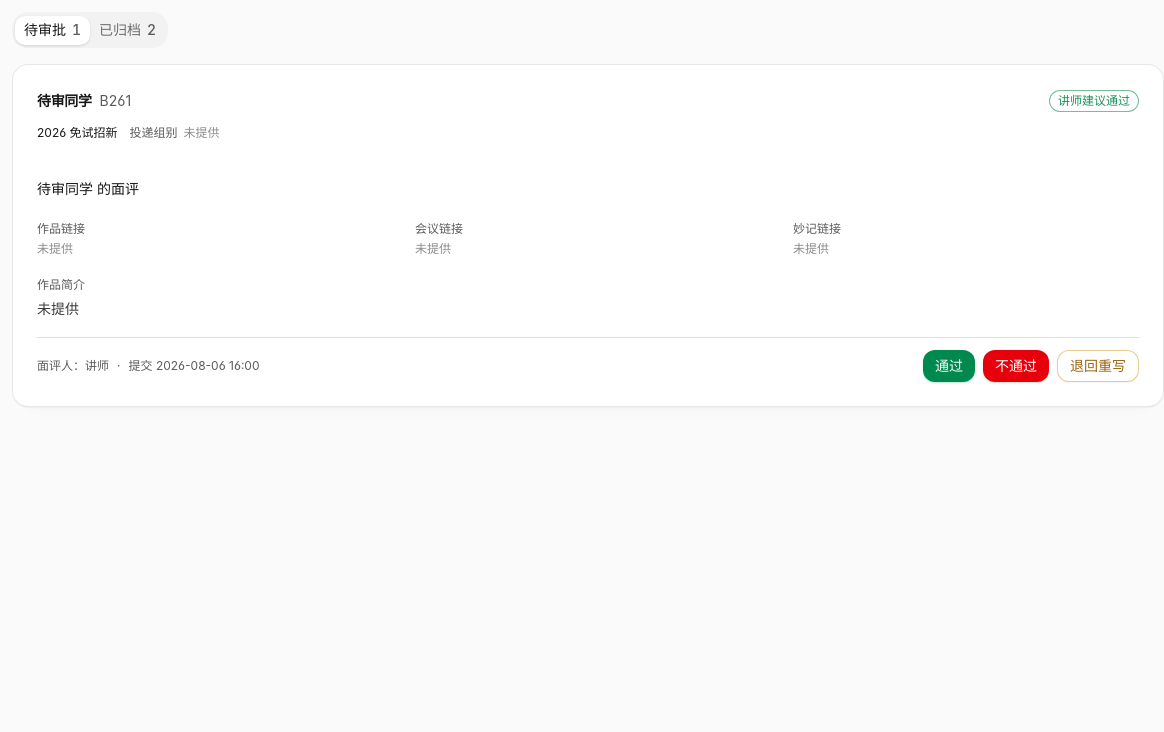
it: ApprovalsContent › searches within every administrator-decided archive record
The width and height of the screenshot is (1164, 732).
Check: the text "讲师建议通过" is shown, box left=1049, top=90, right=1139, bottom=112
Click the tab "已归档 2". click: (128, 30)
box: left=90, top=16, right=165, bottom=44
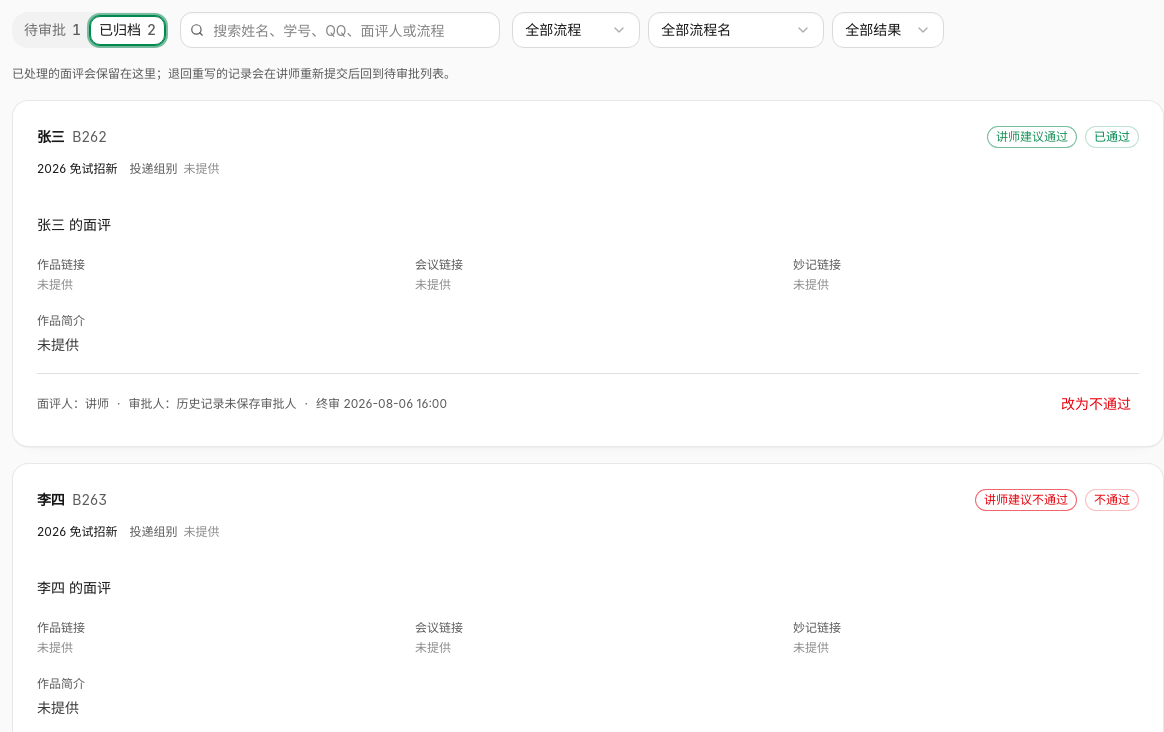
Check: the button "张三" is shown, box left=37, top=125, right=64, bottom=149
Check: the button "李四" is shown, box left=37, top=488, right=64, bottom=512
Check: the text "讲师建议不通过" is shown, box left=975, top=489, right=1077, bottom=511
Type "李四" into the field named "搜索归档面评". click: (340, 30)
box: left=180, top=12, right=500, bottom=48
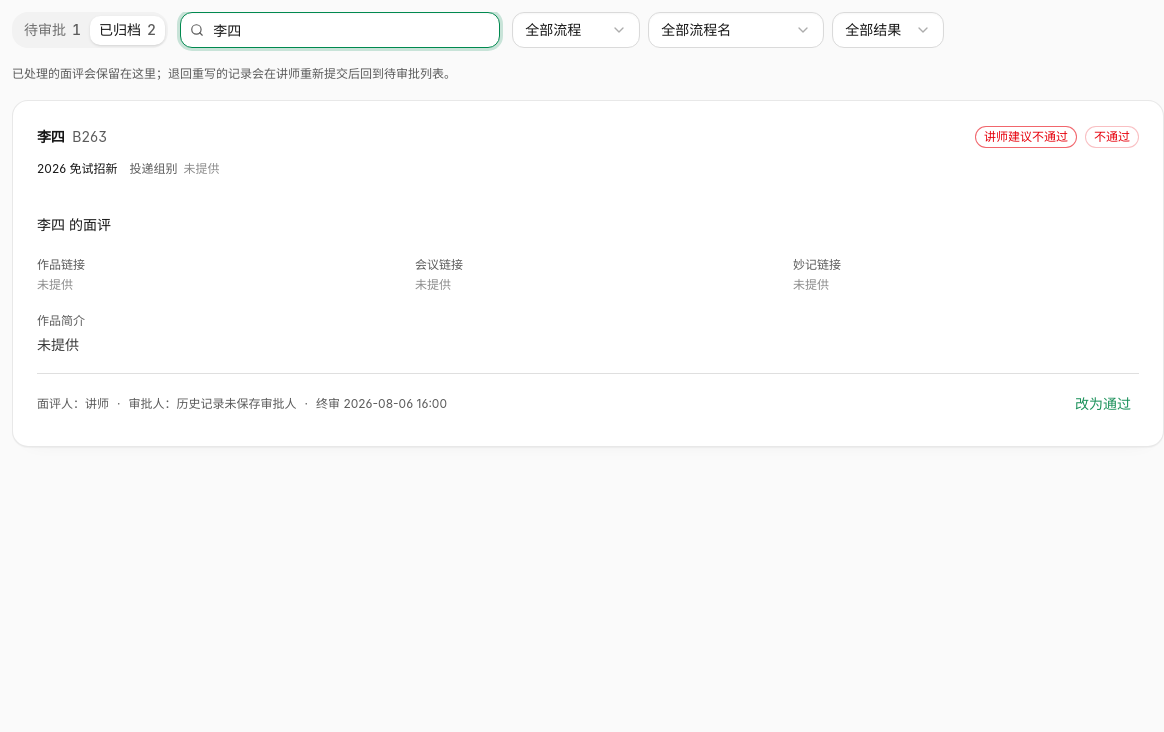
Check: the button "李四" is shown, box left=37, top=125, right=64, bottom=149
Check: the button "张三" is gone
